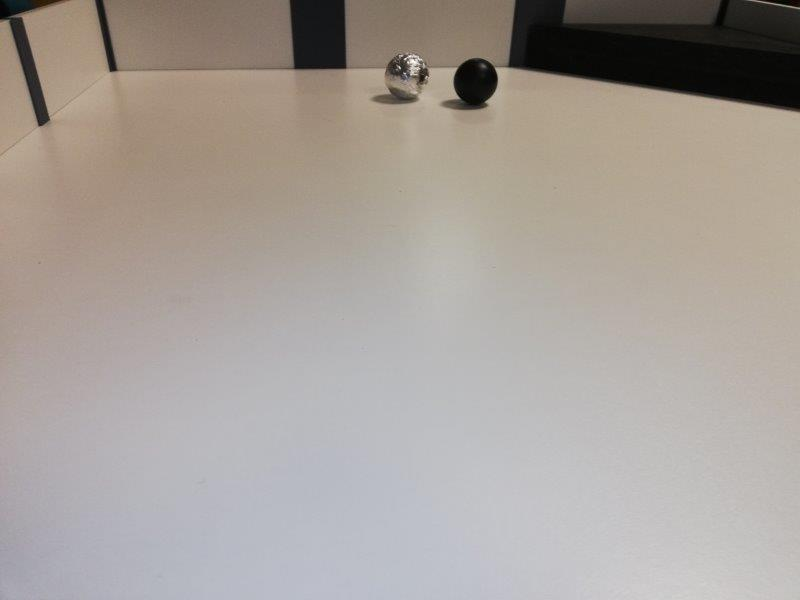bianca: (384, 49, 429, 98)
nera: (453, 56, 498, 105)
